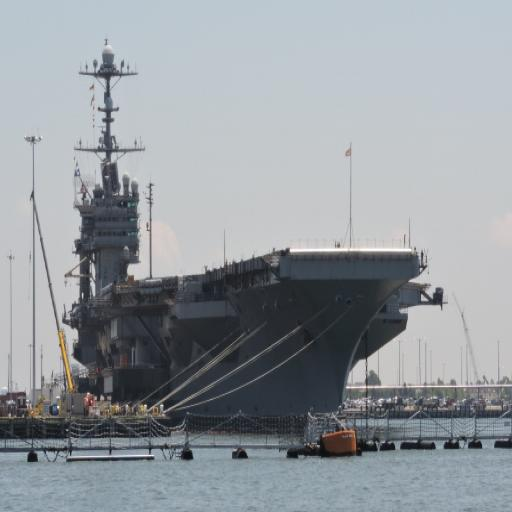Portanaves: (59, 32, 451, 433)
